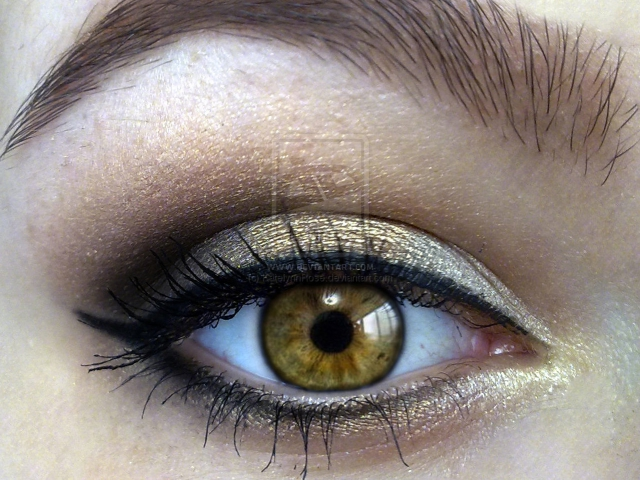iris: (258, 263, 406, 394)
pupil: (309, 310, 352, 355)
